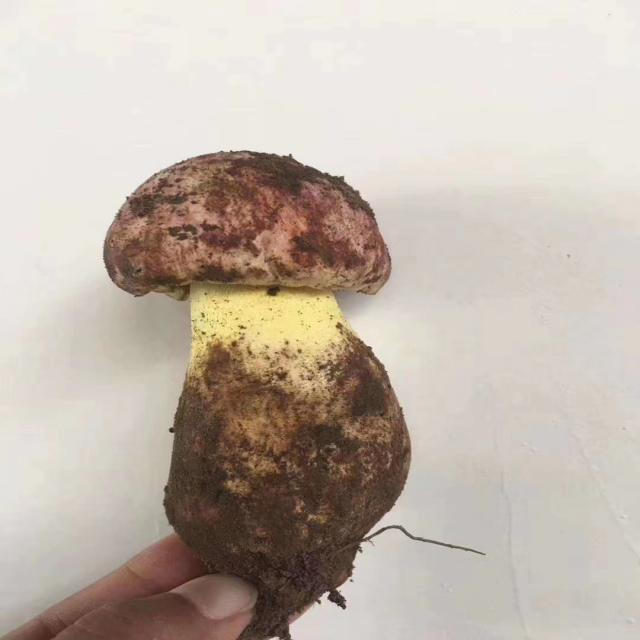Boletus: (101, 150, 416, 623)
